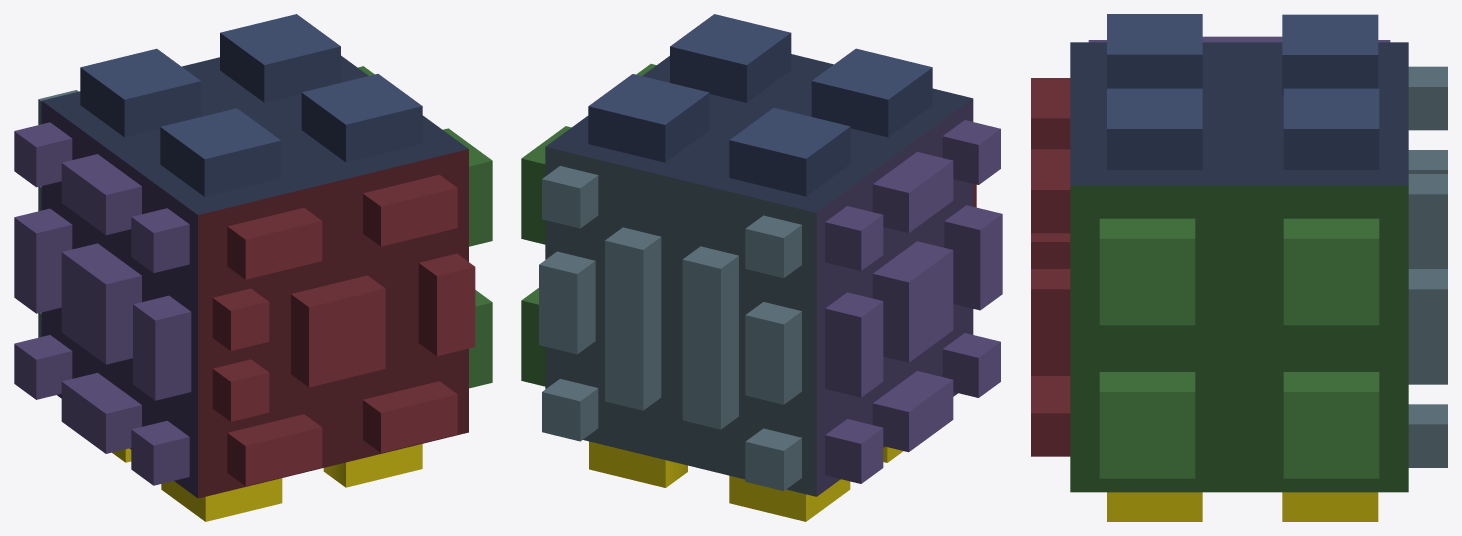
Rendered from Grunt.fbx.
3 views of the same model, side by side, from view 1: azimuth 30°, elevation 25°; view 2: azimuth 150°, elevation 25°; view 3: azimuth 270°, elevation 25° (orthographic). The views are drawn at different scales.
Parts seen in each view (by area): view 1: cube; view 2: cube; view 3: cube.
Part boxes in pixels (bbox=[...]): cube: bbox=[14, 14, 492, 521]; cube: bbox=[521, 14, 1002, 521]; cube: bbox=[1031, 14, 1447, 521].
Size of the model in its own units: 7.73 by 7.79 by 7.49.
Materials: 1 (1 with a texture image).
